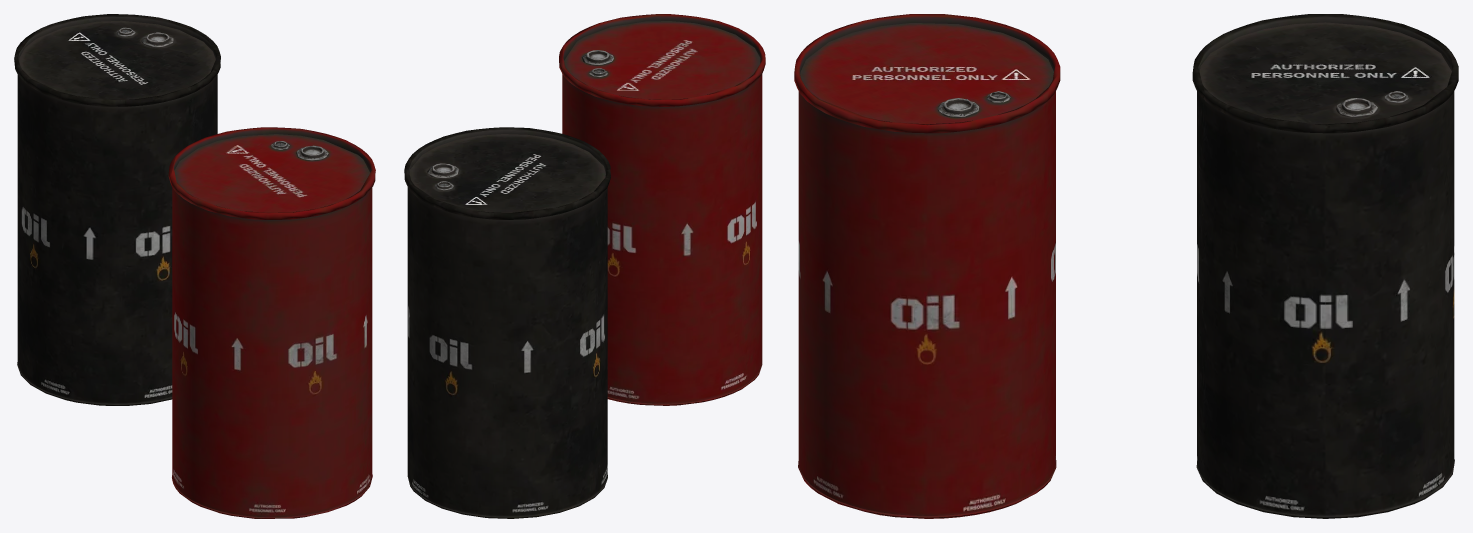
File: oil_barrels.glb
3 views of the same model, side by side, from view 1: azimuth 30°, elevation 25°; view 2: azimuth 150°, elevation 25°; view 3: azimuth 270°, elevation 25° (orthographic). The views are drawn at different scales.
Visible parts, largest first — view 1: black_all_0; view 2: black_all_0; view 3: black_all_0.
Part boxes in pixels (bbox=[...]): black_all_0: bbox=[14, 14, 375, 518]; black_all_0: bbox=[404, 14, 765, 518]; black_all_0: bbox=[794, 14, 1458, 518].
Size of the model in its own units: 0.5505 by 0.8998 by 1.37.
Materials: 1 (1 with a texture image).
